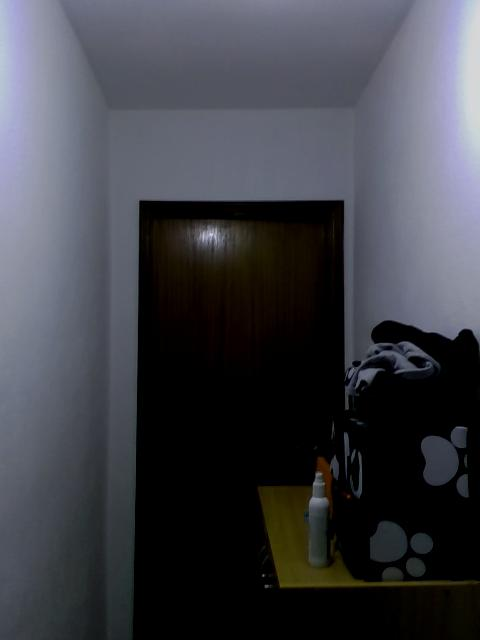closed_door: (133, 198, 339, 638)
